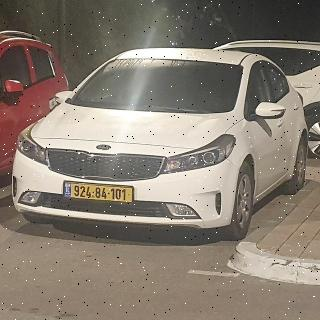LicensePlate: (71, 184, 133, 202)
